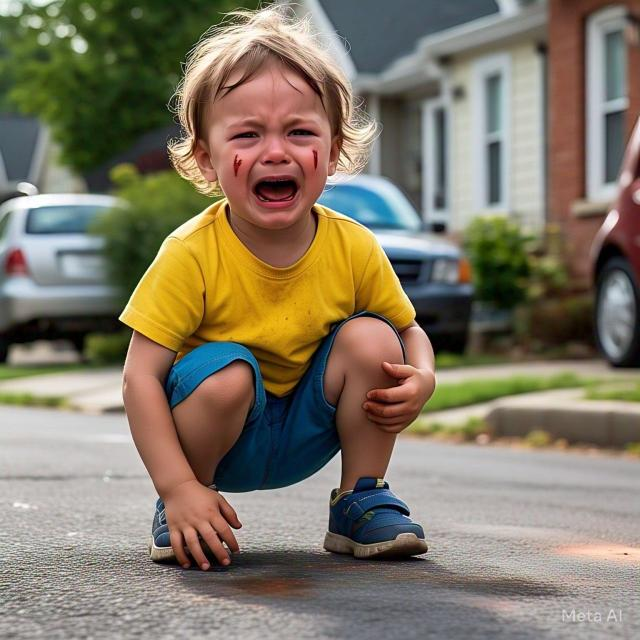injury: (168, 2, 378, 246), (234, 154, 242, 176), (312, 149, 318, 170)
